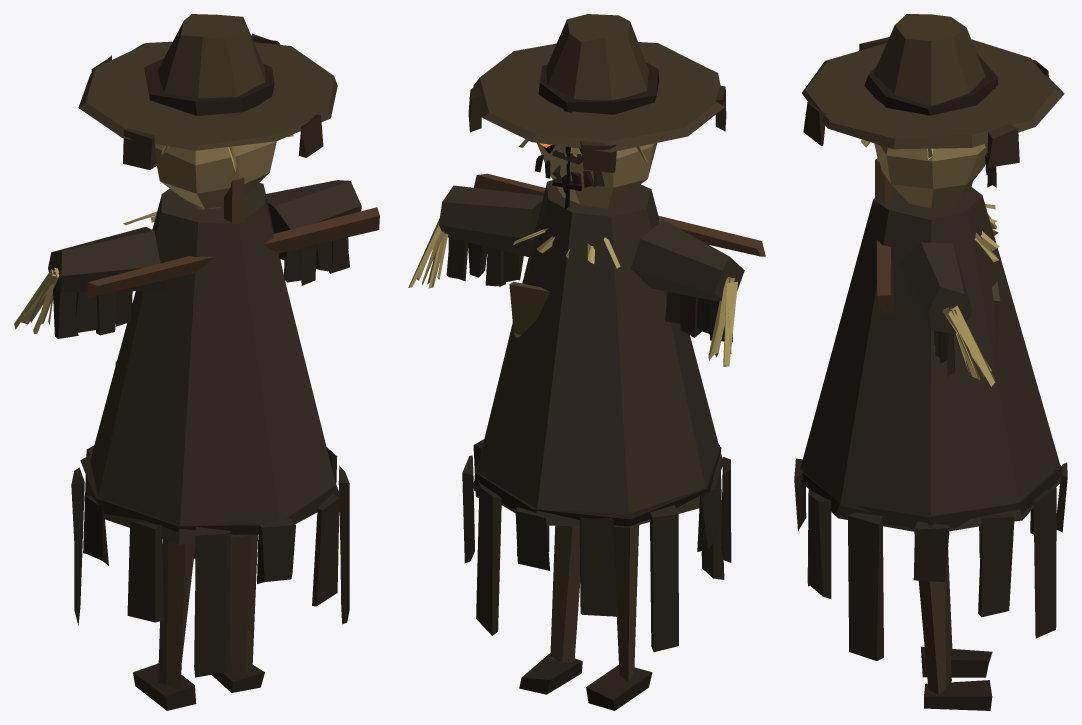
Rendered from creature_scarecrow.glb.
3 views of the same model, side by side, from view 1: azimuth 30°, elevation 25°; view 2: azimuth 150°, elevation 25°; view 3: azimuth 270°, elevation 25° (orthographic). The views are drawn at different scales.
Parts seen in each view (by area): view 1: Torso, Head, ArmL, ArmR, LegL, LegR; view 2: Torso, Head, ArmR, ArmL, LegR, LegL; view 3: Torso, Head, ArmR, LegR, LegL.
Part boxes in pixels (x1,y1,x2,y2): Torso: (71,177,379,677); Head: (78,14,337,209); ArmL: (14,227,165,338); ArmR: (266,180,361,285); LegL: (133,539,196,710); LegR: (211,535,264,692); Torso: (462,173,765,651); Head: (468,14,726,209); ArmR: (408,185,543,288); ArmL: (631,219,744,366); LegR: (519,525,582,694); LegL: (586,525,652,710); Torso: (794,158,1067,660); Head: (802,14,1064,207); ArmR: (898,242,995,386); LegR: (914,532,992,710); LegL: (921,550,992,677).
Size of the model in its own units: 1.14 by 2.23 by 0.8342.
